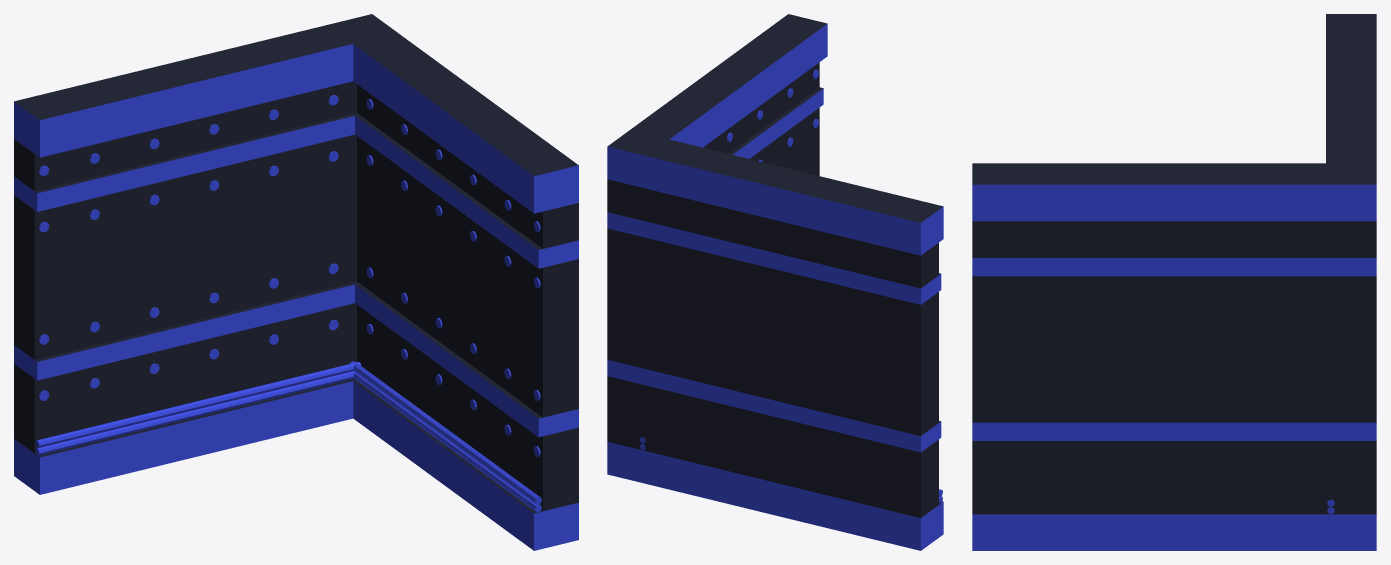
File: Wall_Corner.fbx
The picture shows the model from 3 angles, left to right: view 1: azimuth 30°, elevation 25°; view 2: azimuth 150°, elevation 25°; view 3: azimuth 270°, elevation 25°; orthographic projection. The views are drawn at different scales.
Parts seen in each view (by area): view 1: Wall_Corner; view 2: Wall_Corner; view 3: Wall_Corner.
Boxes of the visible parts, x1,y1,x2,y2 form: Wall_Corner: [14, 14, 578, 550]; Wall_Corner: [607, 14, 943, 550]; Wall_Corner: [972, 14, 1376, 550].
Bounding box in the file's own units: 200 × 200 × 200.
